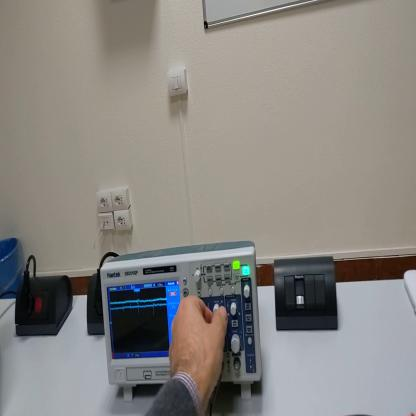hand: (168, 296, 228, 402)
oscilloscope: (100, 240, 263, 401)
socket: (14, 273, 75, 339), (88, 274, 104, 336)
